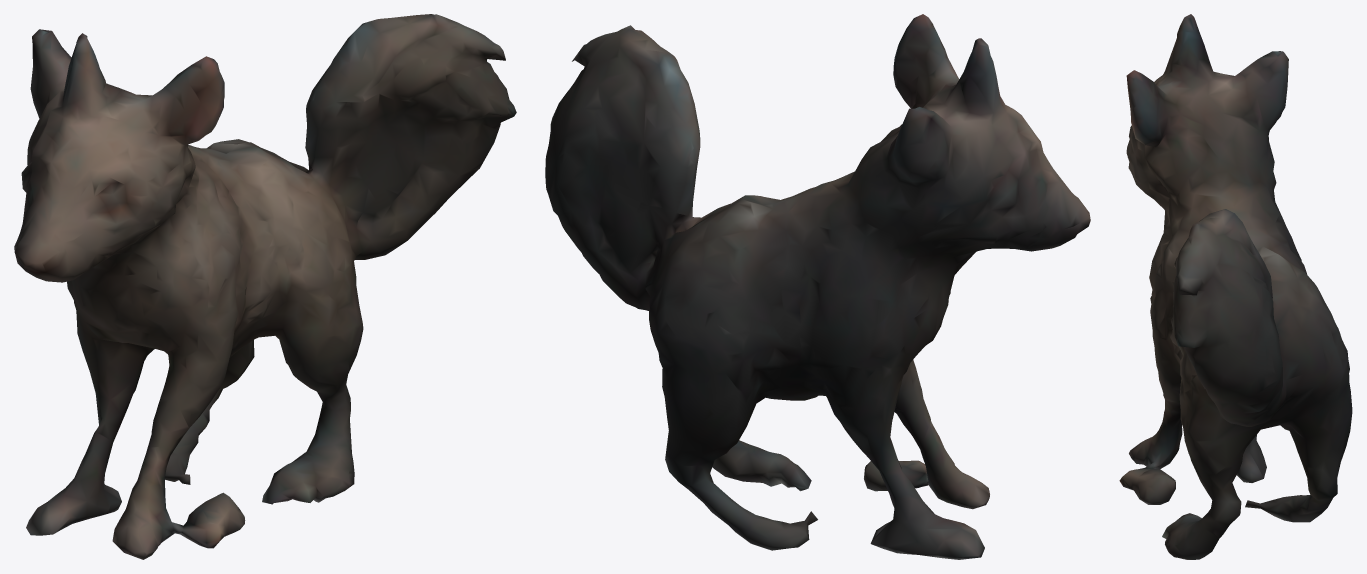
File: rat.glb
3 views of the same model, side by side, from view 1: azimuth 30°, elevation 25°; view 2: azimuth 150°, elevation 25°; view 3: azimuth 270°, elevation 25° (orthographic). The views are drawn at different scales.
Parts seen in each view (by area): view 1: geometry_0; view 2: geometry_0; view 3: geometry_0.
Part boxes in pixels (x1,y1,x2,y2): geometry_0: (14, 14, 516, 559); geometry_0: (545, 14, 1090, 559); geometry_0: (1119, 14, 1352, 559).
Size of the model in its own units: 0.9897 by 0.9472 by 0.4505.
